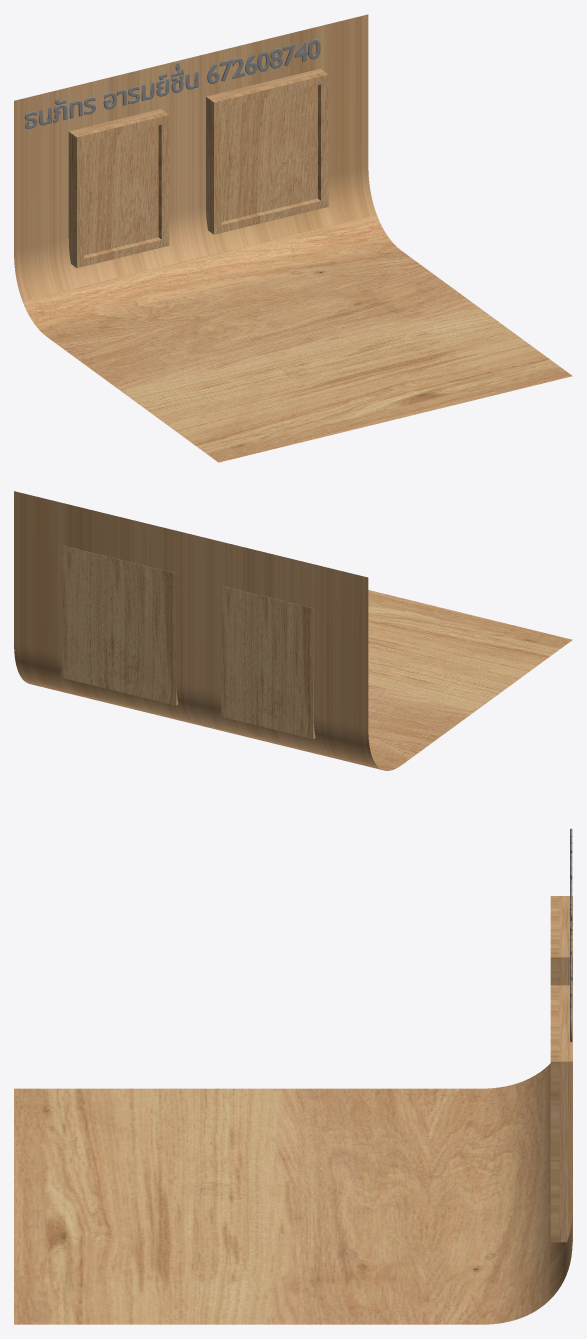
File: Background.glb
3 renders of one model, top to bottom at view 1: azimuth 30°, elevation 25°; view 2: azimuth 150°, elevation 25°; view 3: azimuth 270°, elevation 25°, orthographic. The views are drawn at different scales.
Visible parts, largest first — view 1: Plane, Cube.011, Cube.010, Text; view 2: Plane, Cube.011, Cube.010; view 3: Plane, Cube.011, Cube.010.
Part boxes in pixels (bbox=[...]): Plane: bbox=[14, 14, 572, 462]; Cube.011: bbox=[206, 68, 328, 234]; Cube.010: bbox=[68, 109, 169, 267]; Text: bbox=[24, 39, 320, 128]; Plane: bbox=[14, 491, 572, 770]; Cube.011: bbox=[61, 545, 178, 705]; Cube.010: bbox=[221, 586, 315, 739]; Plane: bbox=[14, 1063, 572, 1324]; Cube.011: bbox=[550, 985, 572, 1242]; Cube.010: bbox=[550, 896, 572, 985].
Size of the model in its own units: 7.61 by 4.35 by 7.62.
4 materials, 3 textured.
